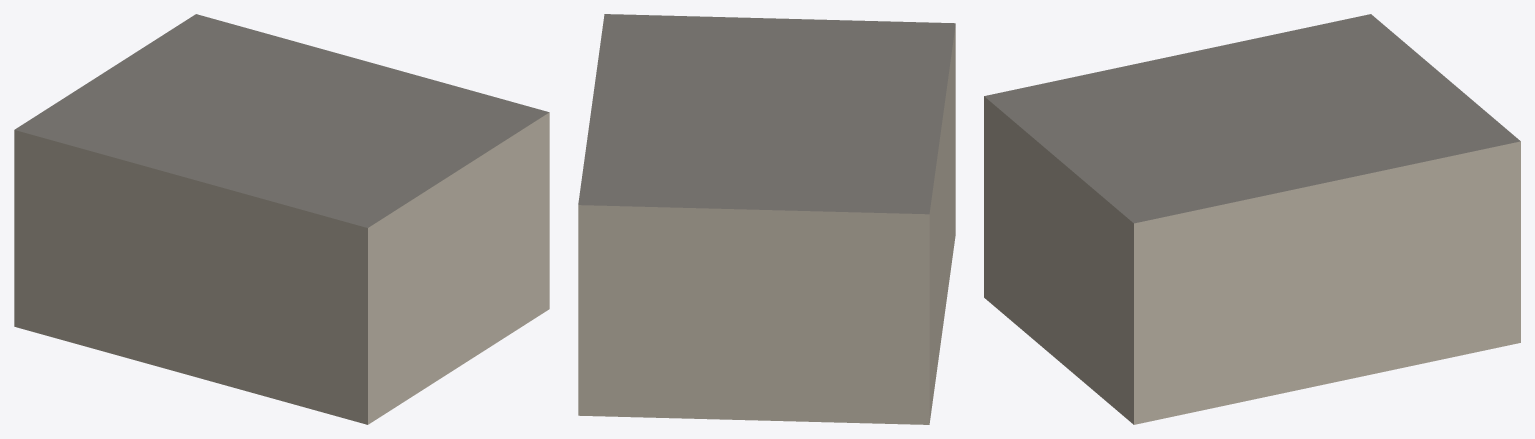
3 renders of one model, left to right at view 1: azimuth 30°, elevation 25°; view 2: azimuth 150°, elevation 25°; view 3: azimuth 270°, elevation 25°, orthographic. The views are drawn at different scales.
Visible parts, largest first — view 1: HP-w369317546; view 2: HP-w369317546; view 3: HP-w369317546.
Boxes of the visible parts, x1,y1,x2,y2 form: HP-w369317546: [14, 14, 549, 424]; HP-w369317546: [578, 14, 955, 424]; HP-w369317546: [984, 14, 1520, 424].
Bounding box in the file's own units: 40.14 × 18 × 43.47.
